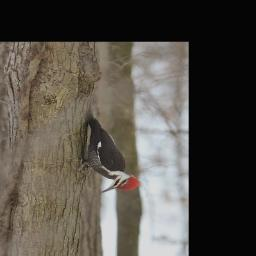Woodpecker: (73, 99, 142, 194)
